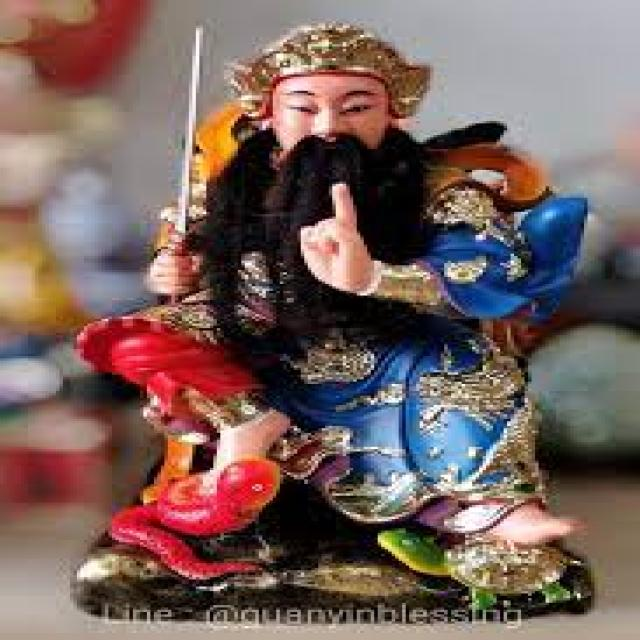Xuan wu: (156, 20, 572, 518)
